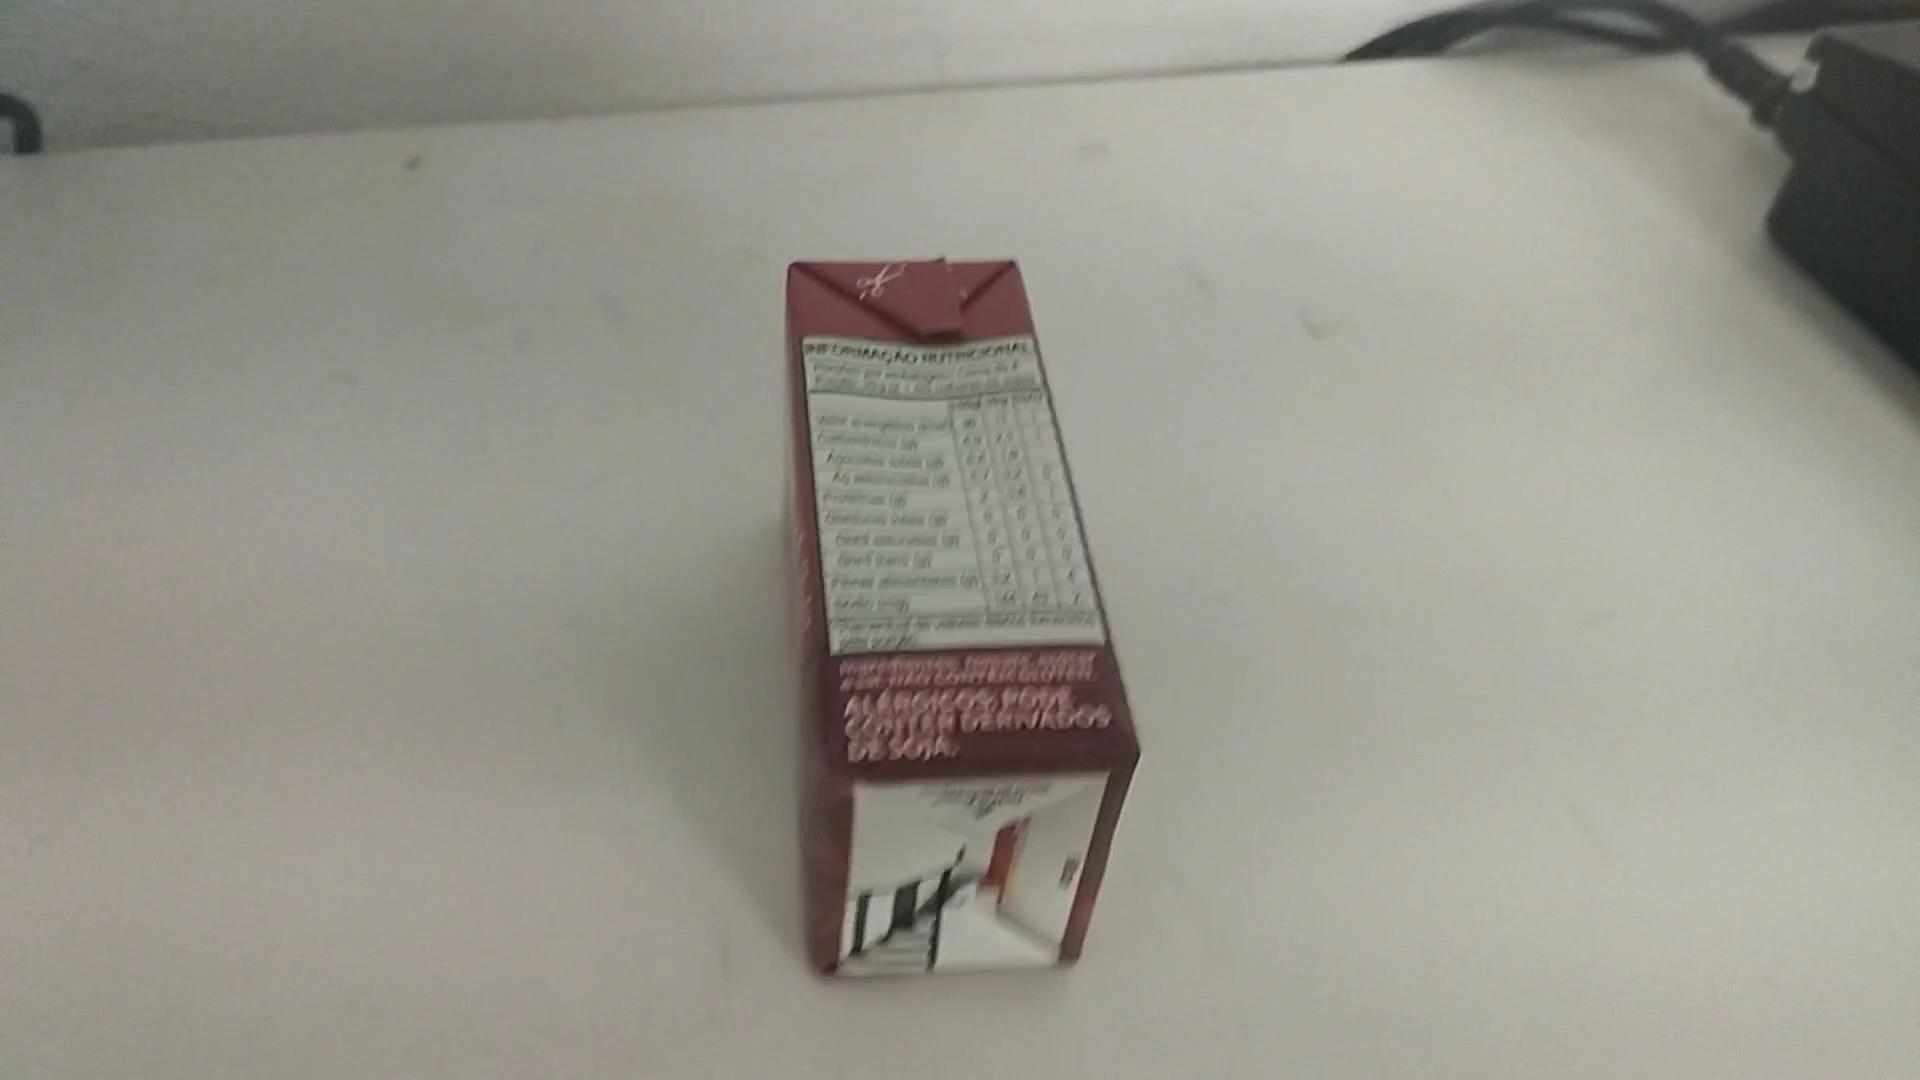tomate: (781, 260, 1149, 986)
